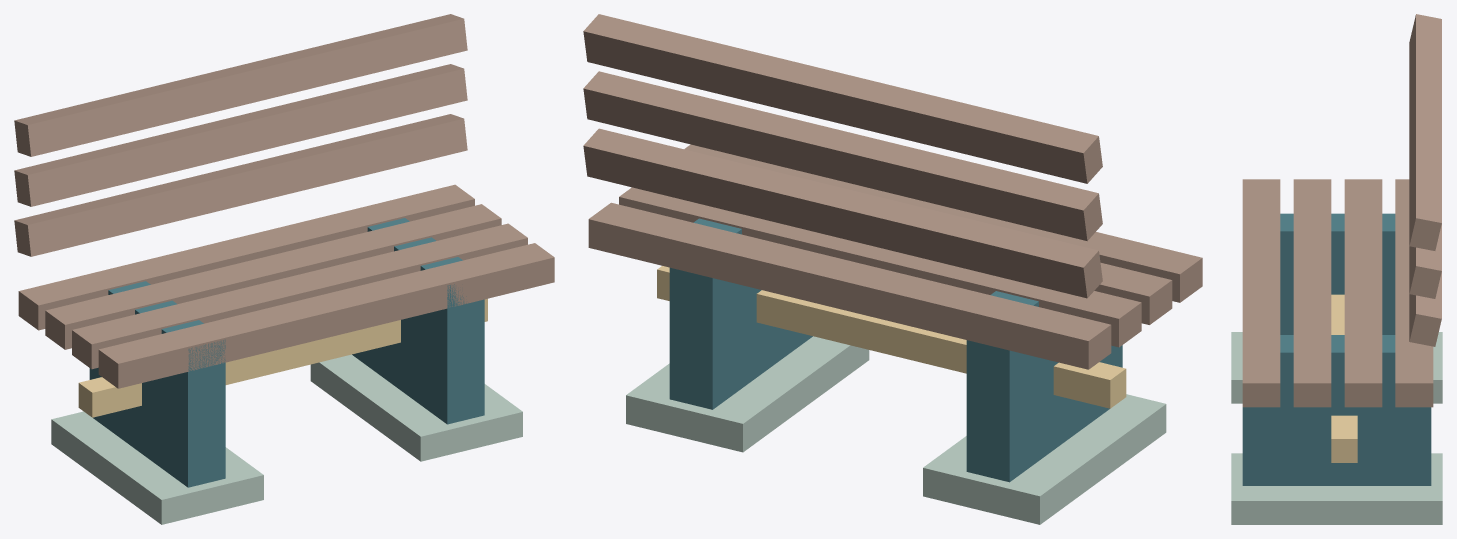
File: bench.glb
The picture shows the model from 3 angles, left to right: view 1: azimuth 30°, elevation 25°; view 2: azimuth 150°, elevation 25°; view 3: azimuth 270°, elevation 25°; orthographic projection. The views are drawn at different scales.
Parts seen in each view (by area): view 1: bench; view 2: bench; view 3: bench.
Boxes of the visible parts, <box> form: bench: <box>14,14,554,524</box>; bench: <box>583,14,1202,524</box>; bench: <box>1231,14,1442,524</box>.
Size of the model in its own units: 1.28 by 0.9484 by 0.56.
